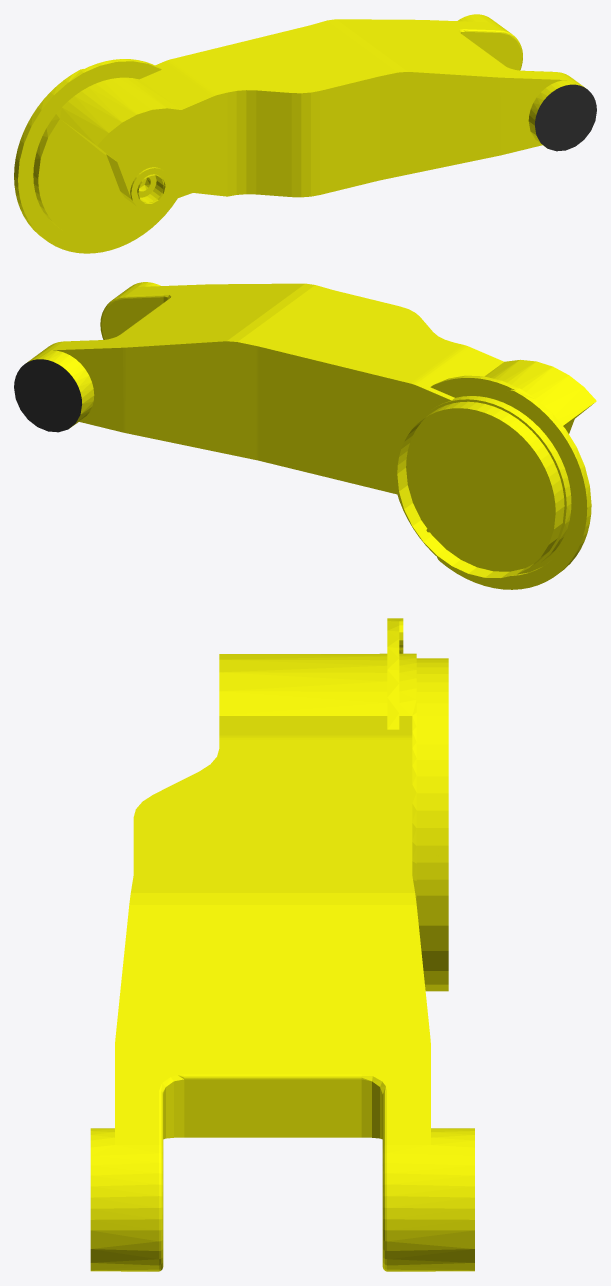
3 renders of one model, top to bottom at view 1: azimuth 30°, elevation 25°; view 2: azimuth 150°, elevation 25°; view 3: azimuth 270°, elevation 25°, orthographic. The views are drawn at different scales.
Visible parts, largest first — view 1: node; view 2: node; view 3: node.
Boxes of the visible parts, x1,y1,x2,y2 form: node: (14,14,596,253); node: (14,282,596,589); node: (90,618,474,1271).
Bounding box in the file's own units: 1380 × 490 × 509.
